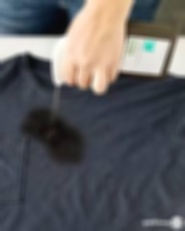oil: (23, 110, 84, 157)
